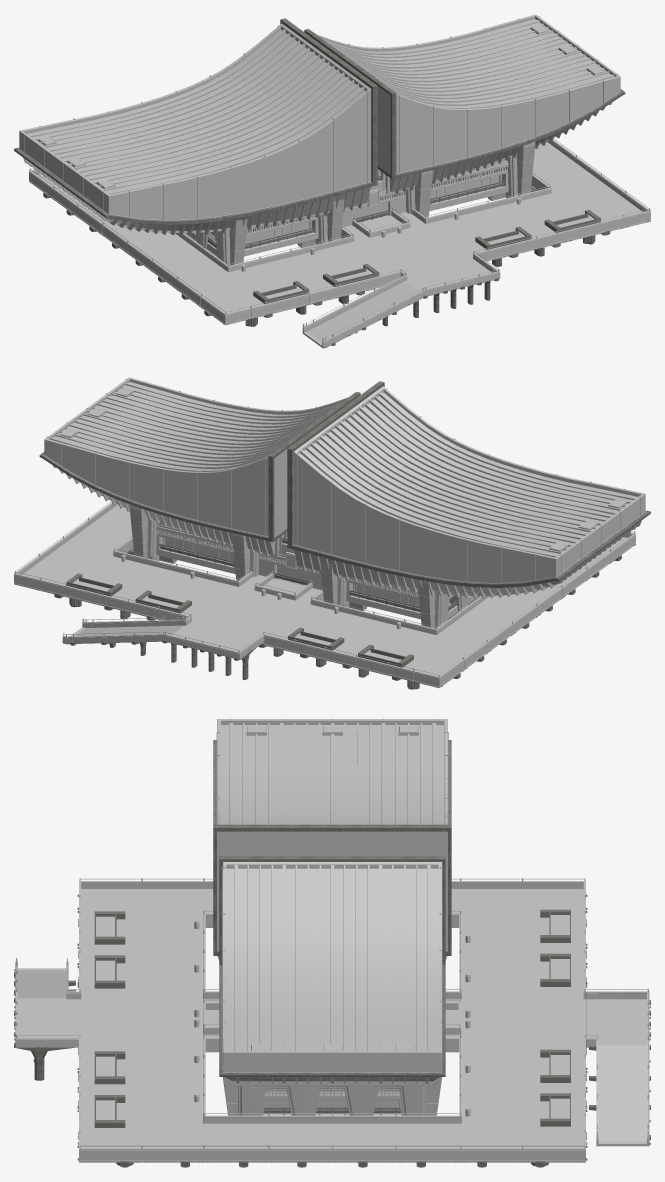
The model's file is Kitbash3D_Brutalist_Building02.fbx.
The picture shows the model from 3 angles, top to bottom: view 1: azimuth 30°, elevation 25°; view 2: azimuth 150°, elevation 25°; view 3: azimuth 270°, elevation 25°; orthographic projection. The views are drawn at different scales.
Parts seen in each view (by area): view 1: M_Bldg_G_Main_Bldg_Upper, M_Bldg_G_ConcFormHoles, M_Bldg_G_StoneFloor, M_Bldg_G_Plaza_Walls_Ramp, M_Bldg_G_Main_Bldg_Upper_Borders, M_Bldg_G_LG_Support, M_Bldg_G_Ribs_bLINE_Brown, M_Bldg_G_Main_Bldg_Lower, M_Bldg_G_ConcFormNoHoles, M_Bldg_G_Plaza_Supports_Details, M_Bldg_G_Plaza_Rails, M_Bldg_G_WindowsGlass (+1 smaller); view 2: M_Bldg_G_Main_Bldg_Upper, M_Bldg_G_ConcFormHoles, M_Bldg_G_StoneFloor, M_Bldg_G_Plaza_Walls_Ramp, M_Bldg_G_Main_Bldg_Upper_Borders, M_Bldg_G_LG_Support, M_Bldg_G_Ribs_bLINE_Brown, M_Bldg_G_Main_Bldg_Lower, M_Bldg_G_ConcFormNoHoles, M_Bldg_G_Plaza_Supports_Details, M_Bldg_G_Plaza_Rails, M_Bldg_G_WindowsGlass (+1 smaller); view 3: M_Bldg_G_StoneFloor, M_Bldg_G_Main_Bldg_Upper, M_Bldg_G_Plaza_Walls_Ramp, M_Bldg_G_ConcFormHoles, M_Bldg_G_Main_Bldg_Upper_Borders, M_Bldg_G_ConcFormNoHoles, M_Bldg_G_LG_Support, M_Bldg_G_Plaza_Rails, M_Bldg_G_ConcFormHoles.001, M_Bldg_G_Ribs_bLINE_Brown, M_Bldg_G_Plaza_Supports_Details, M_Bldg_G_WindowsGlass (+2 smaller).
Boxes of the visible parts, x1,y1,x2,y2 form: M_Bldg_G_Main_Bldg_Upper: (19,14,620,230); M_Bldg_G_ConcFormHoles: (23,20,614,233); M_Bldg_G_StoneFloor: (37,141,642,342); M_Bldg_G_Plaza_Walls_Ramp: (29,139,650,348); M_Bldg_G_Main_Bldg_Upper_Borders: (14,18,625,225); M_Bldg_G_LG_Support: (185,141,535,265); M_Bldg_G_Ribs_bLINE_Brown: (24,16,618,235); M_Bldg_G_Main_Bldg_Lower: (187,159,508,256); M_Bldg_G_ConcFormNoHoles: (207,175,600,303); M_Bldg_G_Plaza_Supports_Details: (29,181,649,347); M_Bldg_G_Plaza_Rails: (29,138,650,341); M_Bldg_G_WindowsGlass: (215,167,505,243); M_Bldg_G_Main_Bldg_Upper: (44,377,645,593); M_Bldg_G_ConcFormHoles: (50,382,641,596); M_Bldg_G_StoneFloor: (22,504,627,676); M_Bldg_G_Plaza_Walls_Ramp: (14,502,635,688); M_Bldg_G_Main_Bldg_Upper_Borders: (39,381,650,587); M_Bldg_G_LG_Support: (129,504,479,628); M_Bldg_G_Ribs_bLINE_Brown: (46,379,640,598); M_Bldg_G_Main_Bldg_Lower: (156,522,478,619); M_Bldg_G_ConcFormNoHoles: (66,538,457,667); M_Bldg_G_Plaza_Supports_Details: (15,544,635,689); M_Bldg_G_Plaza_Rails: (14,502,635,677); M_Bldg_G_WindowsGlass: (159,530,449,606); M_Bldg_G_StoneFloor: (18,889,646,1147); M_Bldg_G_Main_Bldg_Upper: (217,719,447,1081); M_Bldg_G_Plaza_Walls_Ramp: (15,881,649,1162); M_Bldg_G_ConcFormHoles: (229,723,435,1094); M_Bldg_G_Main_Bldg_Upper_Borders: (213,740,451,1076); M_Bldg_G_ConcFormNoHoles: (94,909,570,1127); M_Bldg_G_LG_Support: (223,1077,441,1115); M_Bldg_G_Plaza_Rails: (16,878,648,1148); M_Bldg_G_ConcFormHoles.001: (18,889,646,1147); M_Bldg_G_Ribs_bLINE_Brown: (216,718,448,1086); M_Bldg_G_Plaza_Supports_Details: (14,894,650,1167); M_Bldg_G_WindowsGlass: (267,1089,398,1107).
Size of the model in its own units: 6640 by 2157 by 5443.
